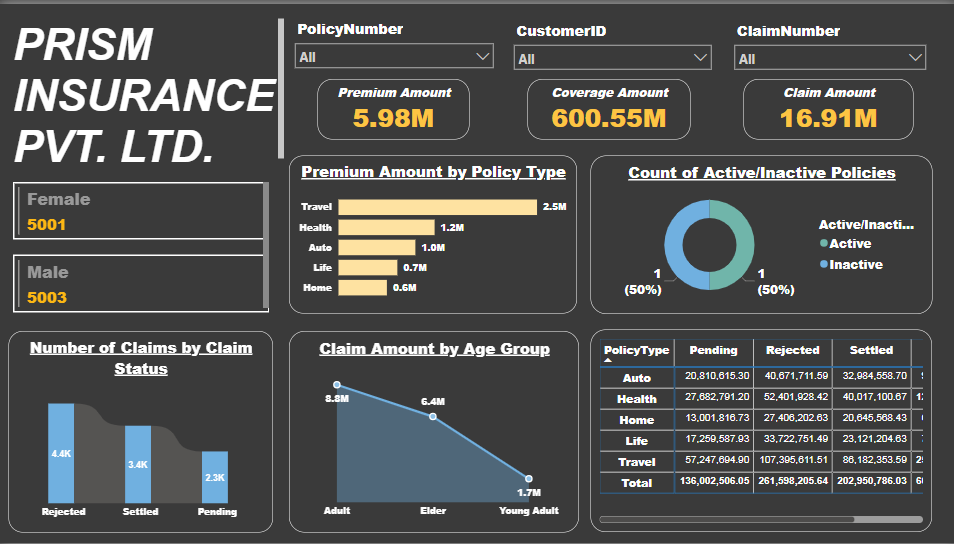

Layout of this report page (visuals, bound fields, positions):
{"tool":"powerbi","page":{"name":"Page 1","canvas":[1280,720],"ordinal":0},"visuals":[{"type":"slicer","fields":{"Values":["InsuranceData.PolicyNumber"]},"box":[385.5,14.6,284.8,90.1],"z":0},{"type":"slicer","fields":{"Values":["InsuranceData.ClaimNumber"]},"box":[971.4,15,275.5,90.1],"z":1000},{"type":"slicer","fields":{"Values":["InsuranceData.CustomerID"]},"box":[678.9,15.6,283.1,90.7],"z":2000},{"type":"textbox","box":[13.2,14.6,372.2,205.3],"z":3000},{"type":"card","title":"Premium Amount","fields":{"Values":["Sum(InsuranceData.PremiumAmount)"]},"box":[426.5,99.3,202.7,80.8],"z":4000},{"type":"card","title":"Coverage Amount","fields":{"Values":["Sum(InsuranceData.CoverageAmount)"]},"box":[706,99.3,217.2,80.8],"z":5000},{"type":"card","title":"Claim Amount","fields":{"Values":["Sum(InsuranceData.ClaimAmount)"]},"box":[994.8,99.3,226.5,80.8],"z":6000},{"type":"multiRowCard","fields":{"Values":["InsuranceData.Gender","CountNonNull(InsuranceData.Gender)"]},"box":[13.2,231.8,352.3,190.7],"z":7000},{"type":"ribbonChart","title":"Number of Claims by Claim Status","fields":{"Category":["InsuranceData.ClaimStatus"],"Y":["CountNonNull(InsuranceData.ClaimNumber)"]},"box":[13.2,435.8,352.3,268.9],"z":7001},{"type":"barChart","title":"Premium Amount by Policy Type","fields":{"Category":["InsuranceData.PolicyType"],"Y":["Sum(InsuranceData.PremiumAmount)"]},"box":[388.1,202.7,384.1,210.6],"z":7002},{"type":"lineChart","title":"Claim Amount by Age Group","fields":{"Category":["InsuranceData.Age Group"],"Y":["Sum(InsuranceData.ClaimAmount)"]},"box":[388.1,435.8,386.8,268.9],"z":7003},{"type":"donutChart","title":"Count of Active/Inactive Policies","fields":{"Category":["InsuranceData.Active/Inactive"],"Y":["Count(InsuranceData.Active/Inactive)"]},"box":[790.6,202.9,455.9,211.2],"z":7004},{"type":"pivotTable","fields":{"Values":["Sum(InsuranceData.CoverageAmount)"],"Rows":["InsuranceData.PolicyType"],"Columns":["InsuranceData.ClaimStatus"]},"box":[790.8,434.5,455.7,270.2],"z":7005}]}

Visuals, with their boxes in screenshot pixels (x1, y1, x2, y2), scaled from the page's 1280x720 canvas onto the 954x544 screenshot:
slicer - InsuranceData.PolicyNumber: <bbox>287, 11, 500, 79</bbox>
slicer - InsuranceData.ClaimNumber: <bbox>724, 11, 929, 79</bbox>
slicer - InsuranceData.CustomerID: <bbox>506, 12, 717, 80</bbox>
textbox: <bbox>10, 11, 287, 166</bbox>
"Premium Amount" card: <bbox>318, 75, 469, 136</bbox>
"Coverage Amount" card: <bbox>526, 75, 688, 136</bbox>
"Claim Amount" card: <bbox>741, 75, 910, 136</bbox>
multiRowCard - InsuranceData.Gender x CountNonNull(InsuranceData.Gender): <bbox>10, 175, 272, 319</bbox>
"Number of Claims by Claim Status" ribbonChart: <bbox>10, 329, 272, 532</bbox>
"Premium Amount by Policy Type" barChart: <bbox>289, 153, 576, 312</bbox>
"Claim Amount by Age Group" lineChart: <bbox>289, 329, 578, 532</bbox>
"Count of Active/Inactive Policies" donutChart: <bbox>589, 153, 929, 313</bbox>
pivotTable - Sum(InsuranceData.CoverageAmount) x InsuranceData.PolicyType: <bbox>589, 328, 929, 532</bbox>
